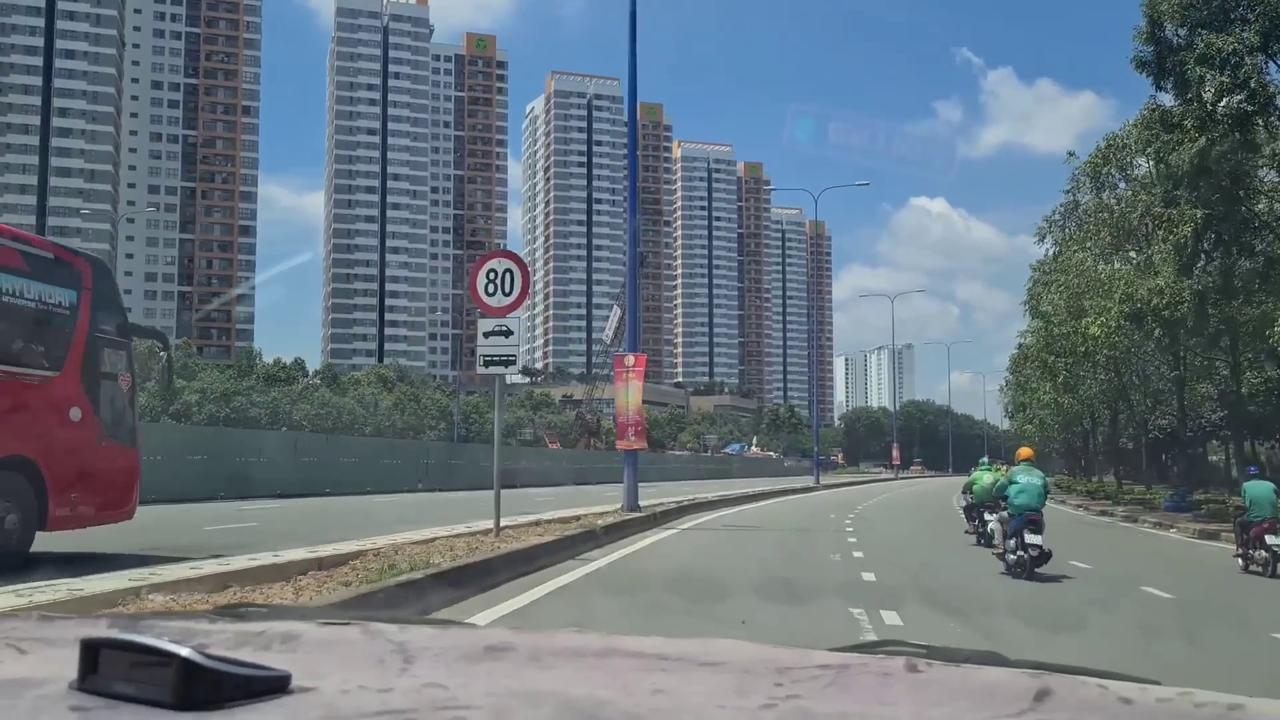Biển phụ: (474, 316, 520, 376)
Giới hạn tốc độ 80Km/h: (467, 247, 532, 319)
